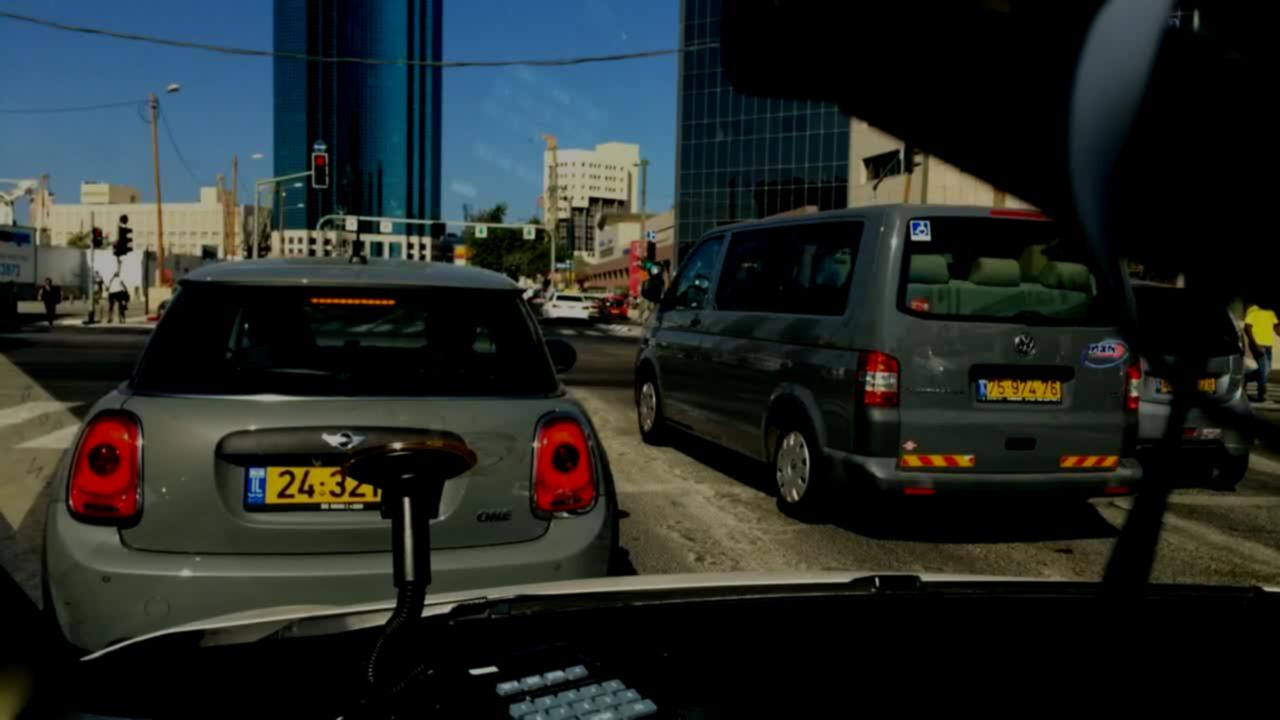Volkswagen: (1009, 329, 1041, 362)
mini: (314, 422, 371, 460)
